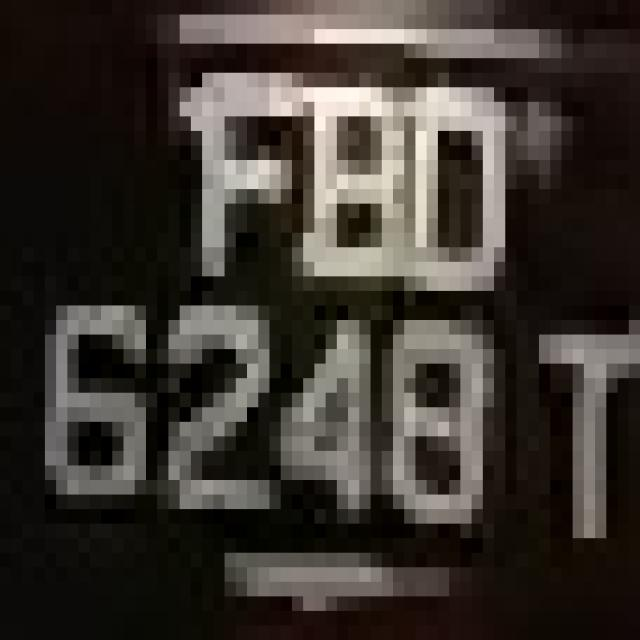2: (146, 247, 281, 538)
4: (247, 262, 393, 567)
6: (45, 247, 146, 538)
8: (371, 291, 494, 567)
B: (281, 58, 415, 306)
D: (404, 58, 539, 306)
F: (168, 44, 292, 276)
T: (516, 291, 629, 567)
